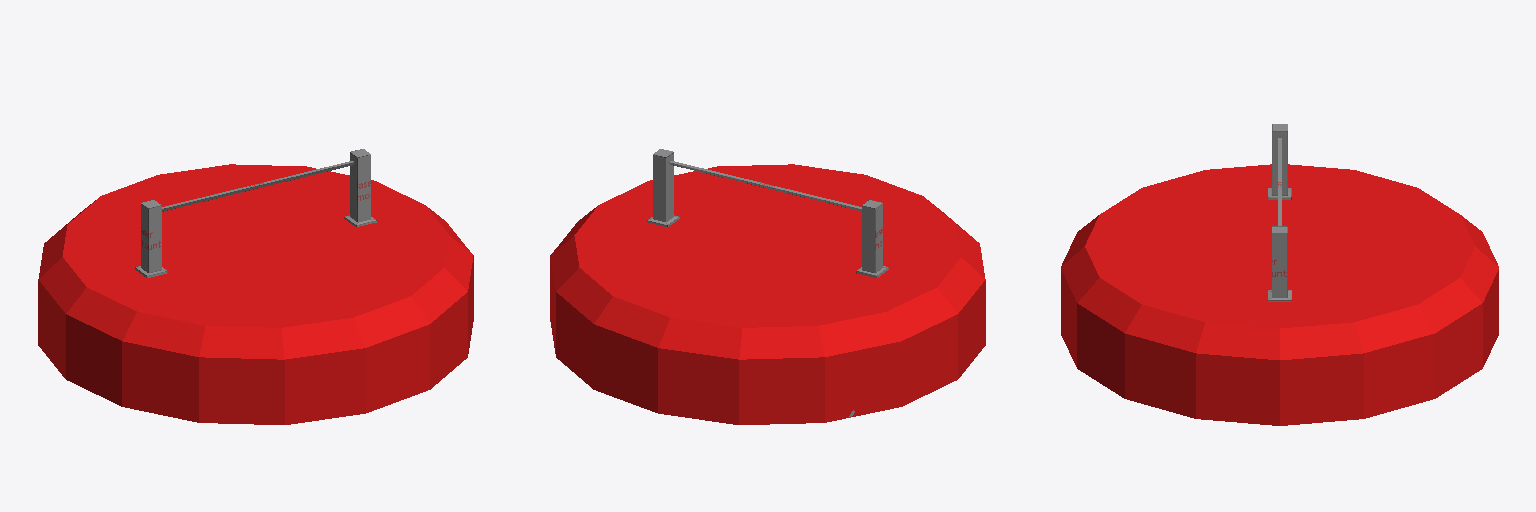
3 views of the same model, side by side, from view 1: azimuth 30°, elevation 25°; view 2: azimuth 150°, elevation 25°; view 3: azimuth 270°, elevation 25° (orthographic).
Visible parts, largest first — view 1: mine; view 2: mine; view 3: mine.
Part boxes in pixels (left/top/right/bottom): mine: left=38, top=149, right=473, bottom=424; mine: left=550, top=149, right=985, bottom=424; mine: left=1061, top=124, right=1498, bottom=425.
Size of the model in its own units: 200 by 77.8 by 200.
Materials: 2 (1 with a texture image).